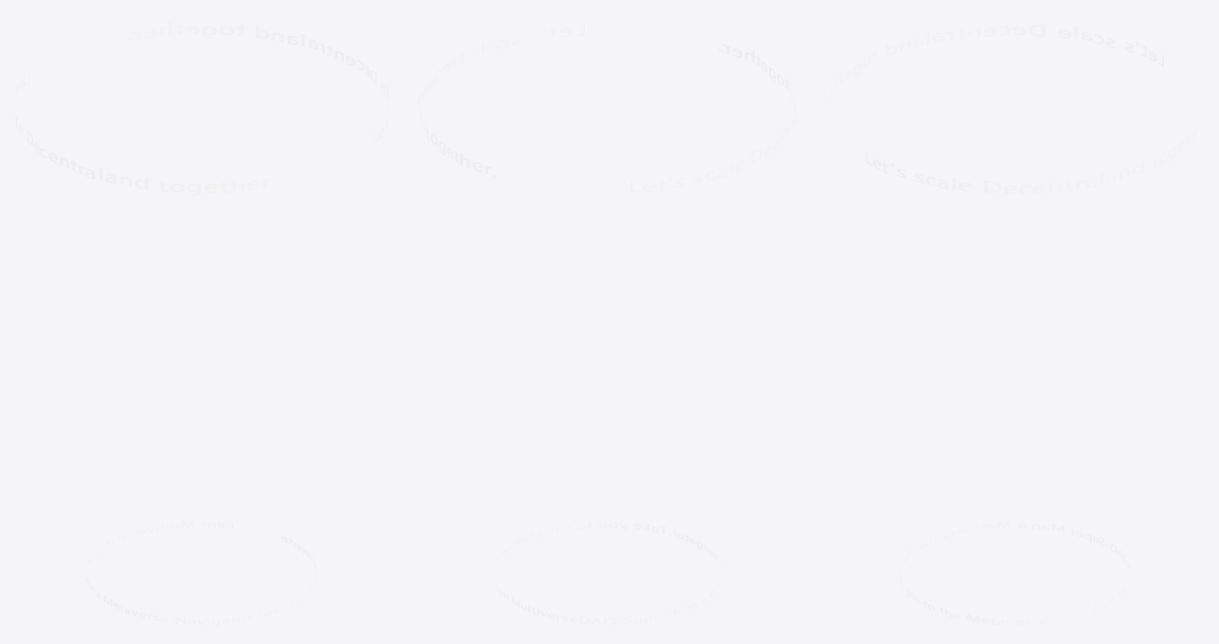
Rendered from banna.glb.
3 renders of one model, left to right at view 1: azimuth 30°, elevation 25°; view 2: azimuth 150°, elevation 25°; view 3: azimuth 270°, elevation 25°, orthographic.
Parts seen in each view (by area): view 1: 对象012; view 2: 对象012; view 3: 对象012.
Part boxes in pixels (<box>): 对象012: <box>14,22,389,626</box>; 对象012: <box>418,24,796,625</box>; 对象012: <box>829,24,1200,625</box>.
Bounding box in the file's own units: 16.18 × 22.89 × 16.18.
1 material, 1 textured.
